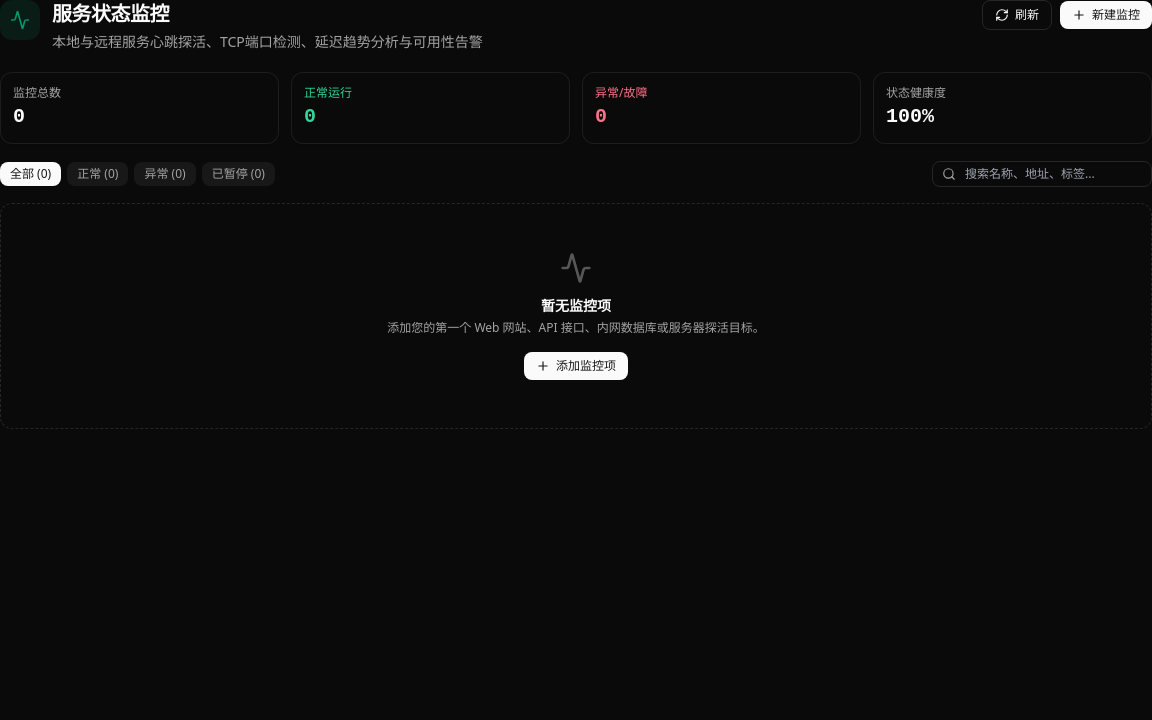
Test: UptimeMonitorTool › opens the create modal and toggles protocol tabs
Click the button "新建监控" at (1106, 15), box [1060,1,1151,29]
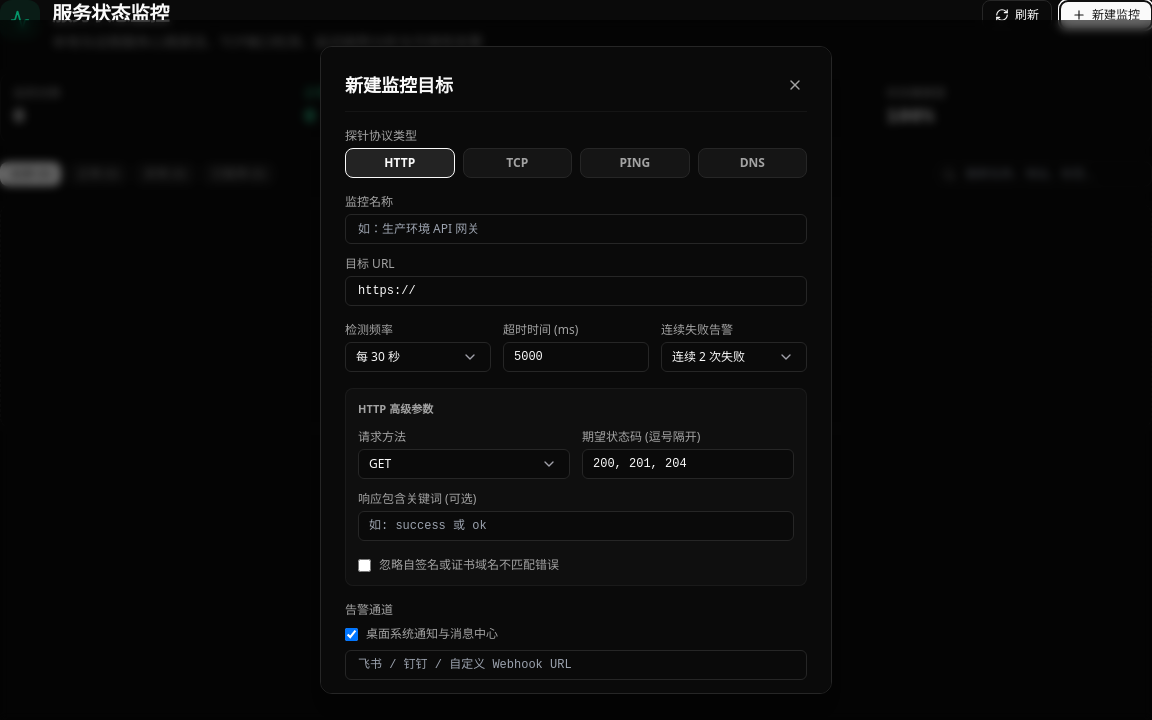
Now the heading "新建监控目标" is shown, box [345,71,453,99]
#  切换到 TCP
Click the button "tcp" at (517, 163), box [462,148,572,178]
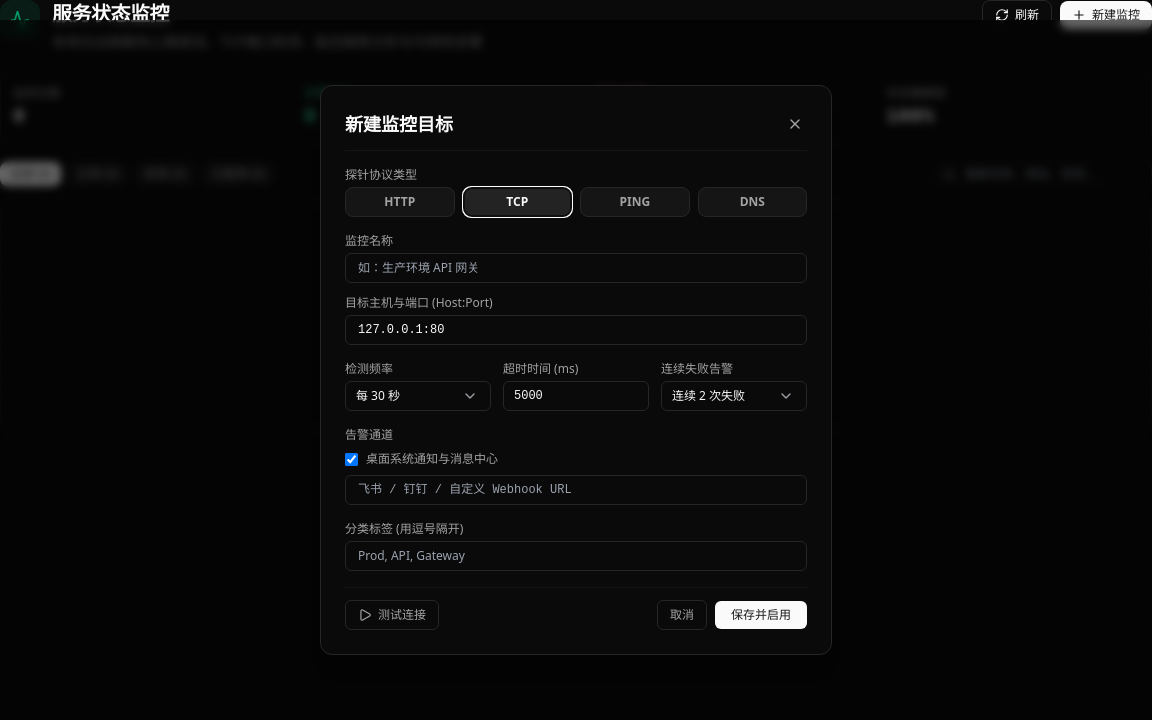
Now the text "目标主机与端口 (Host:Port)" is shown, box [345,294,493,311]
Click the button "http" at (400, 202), box [345,187,454,217]
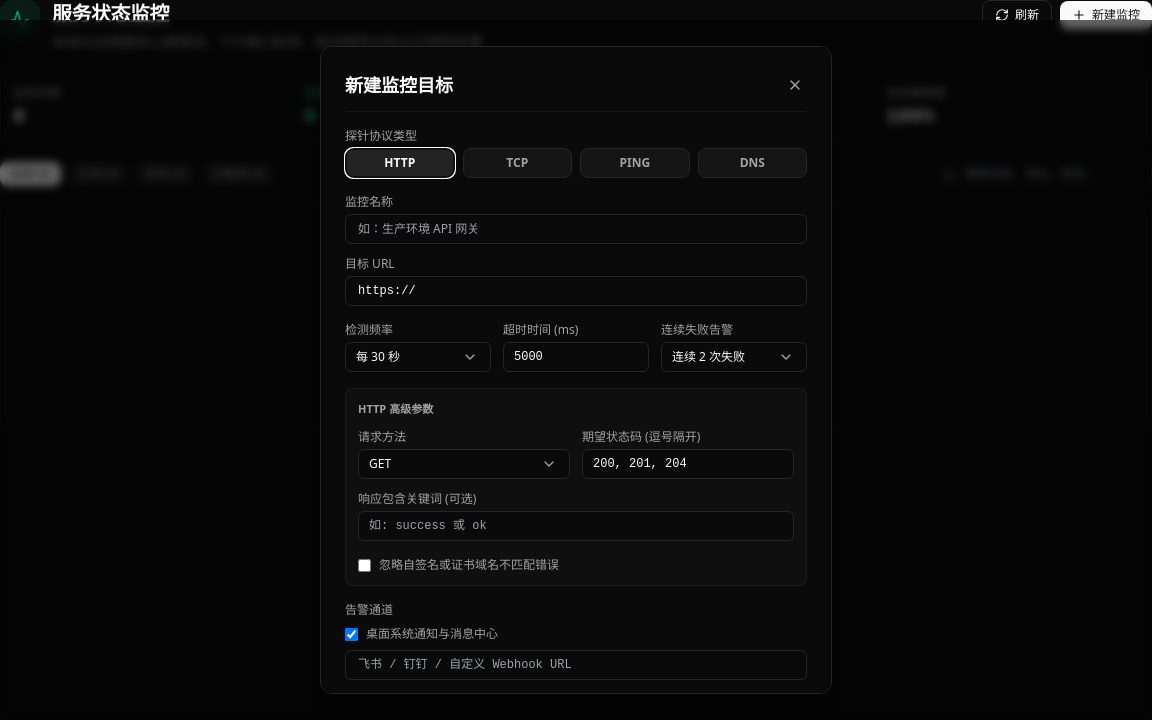
Now the text "HTTP 高级参数" is shown, box [358,401,433,416]
